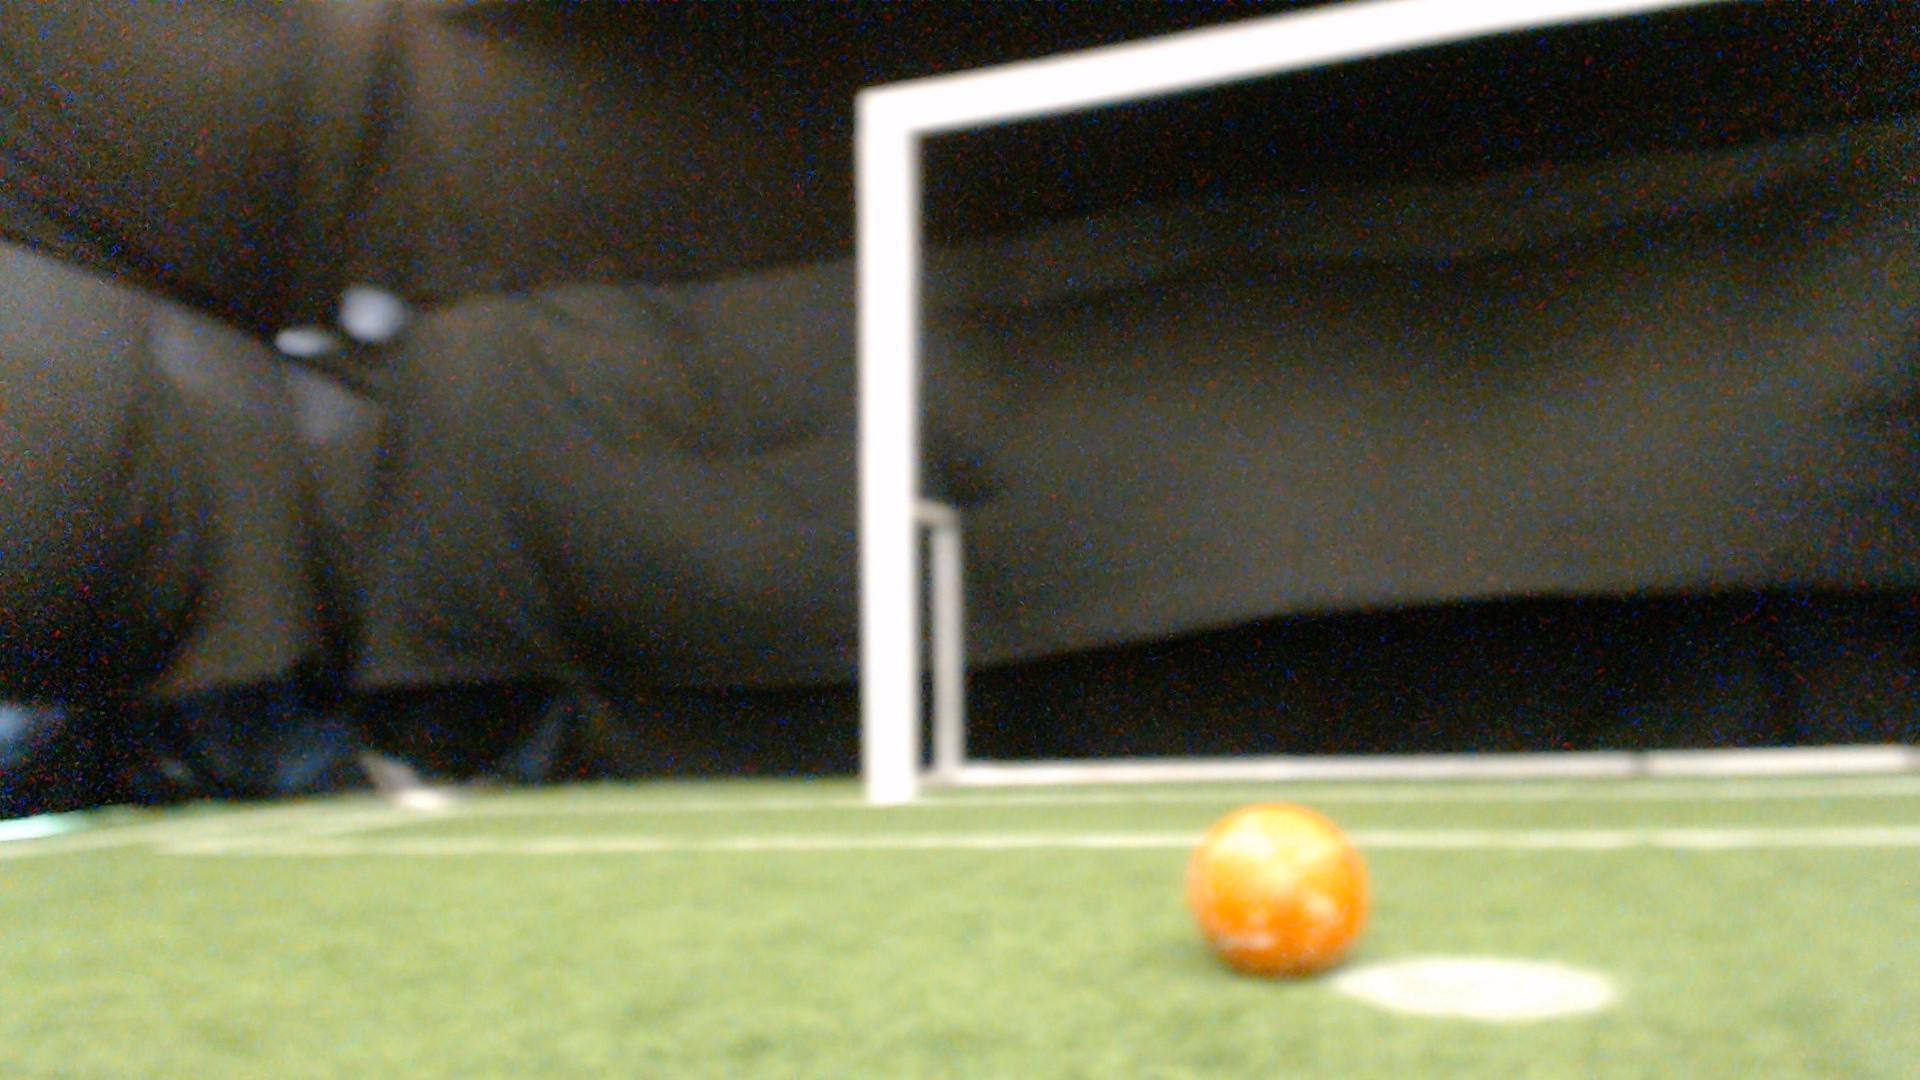bola: (1175, 793, 1381, 977)
